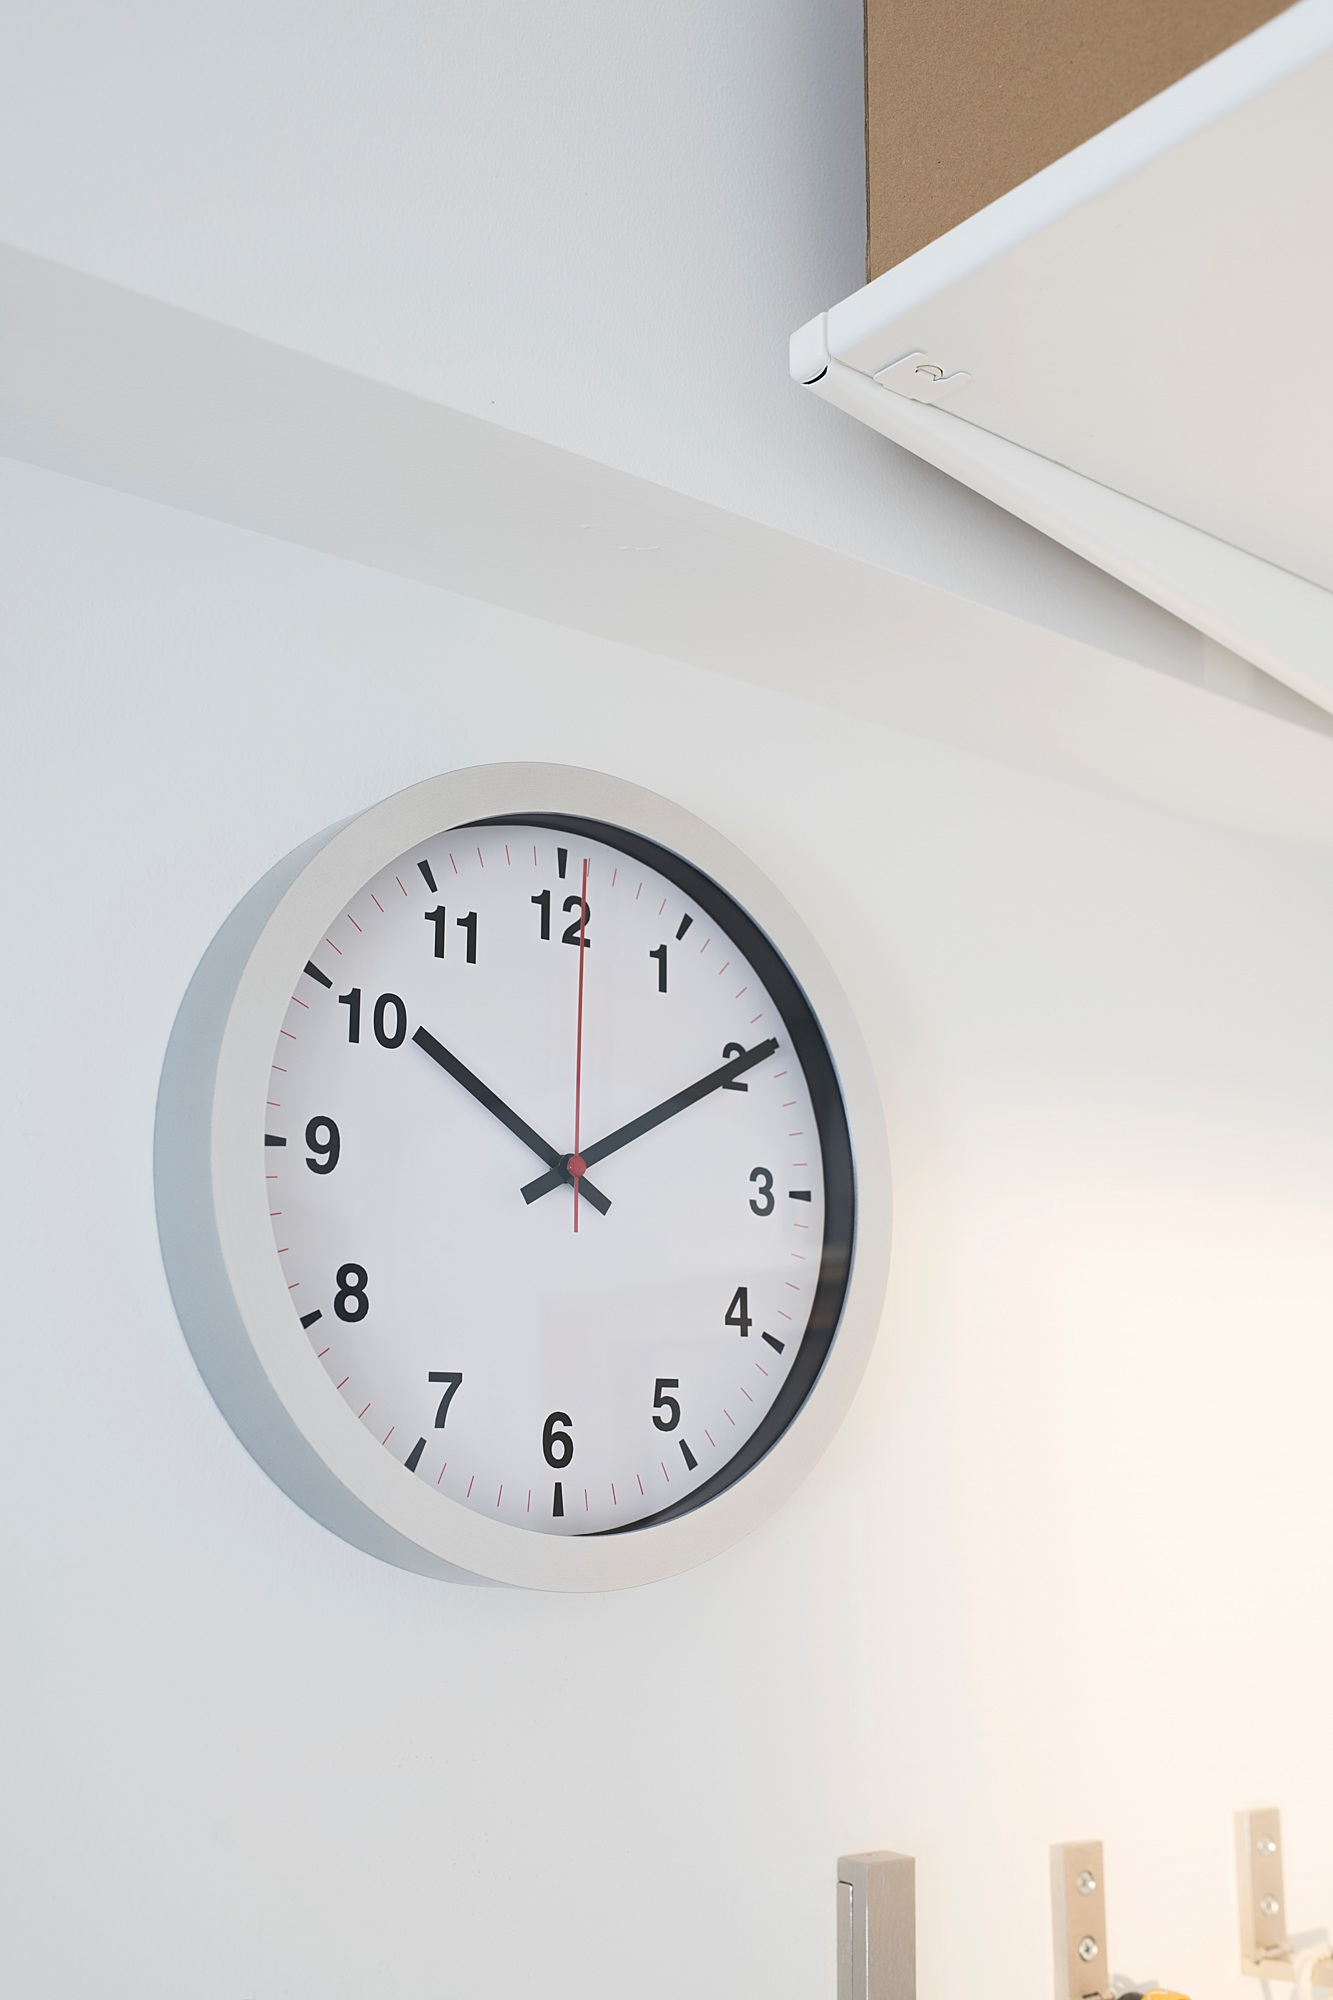jam dinding: (135, 741, 910, 1685)
